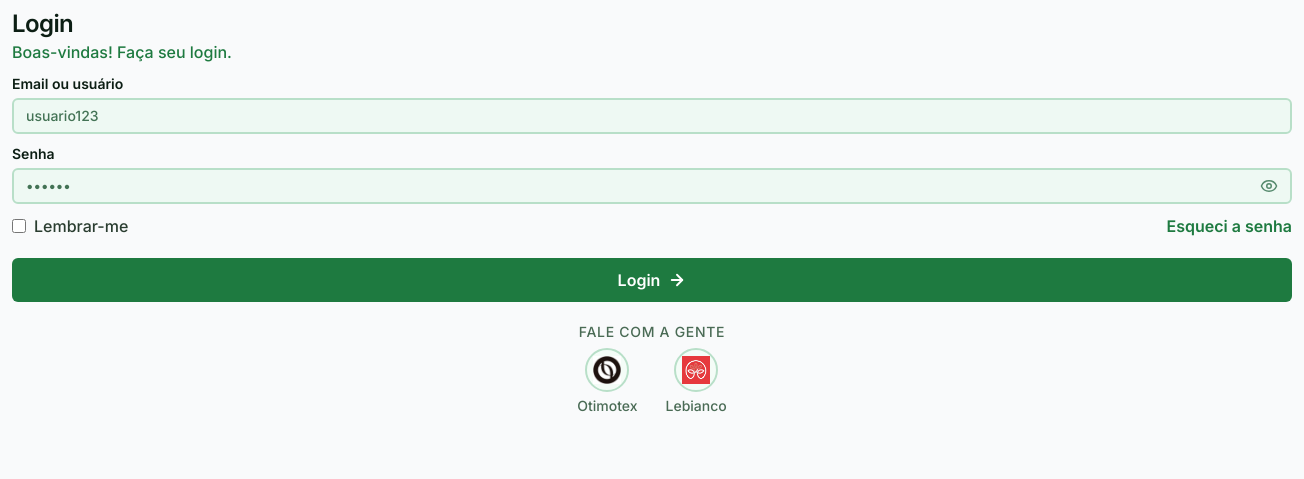
LoginForm › exibe erro inline quando as credenciais são inválidas
This screenshot has width=1304, height=479.
Type "x@y.com" into the field with placeholder "usuario123" at point(652, 116), box [26,106,1278,126]
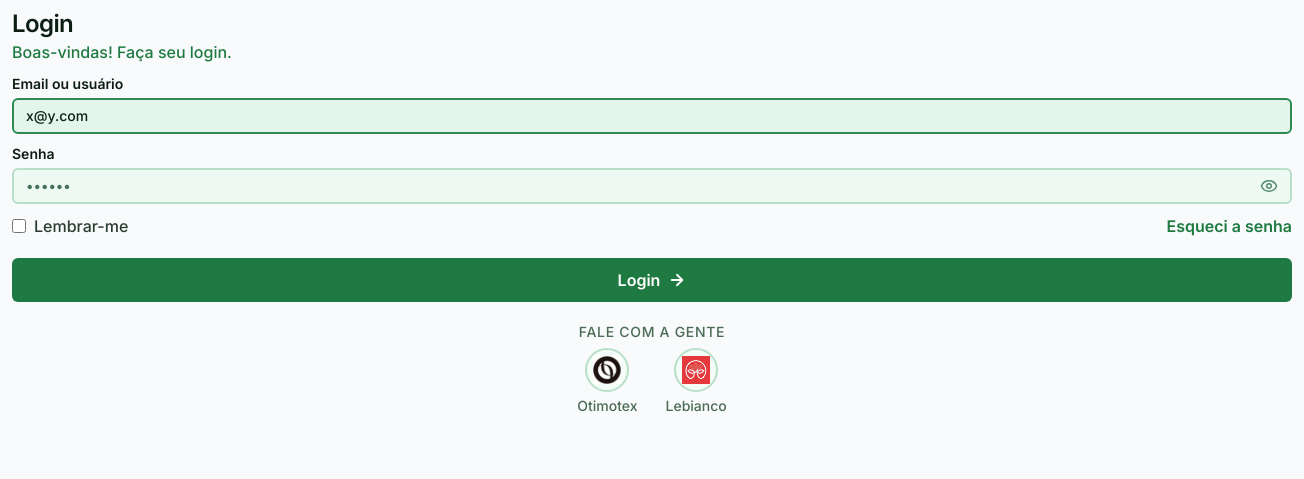
Type "errada" into the password field with placeholder "••••••" at point(639, 186), box [26,176,1252,196]
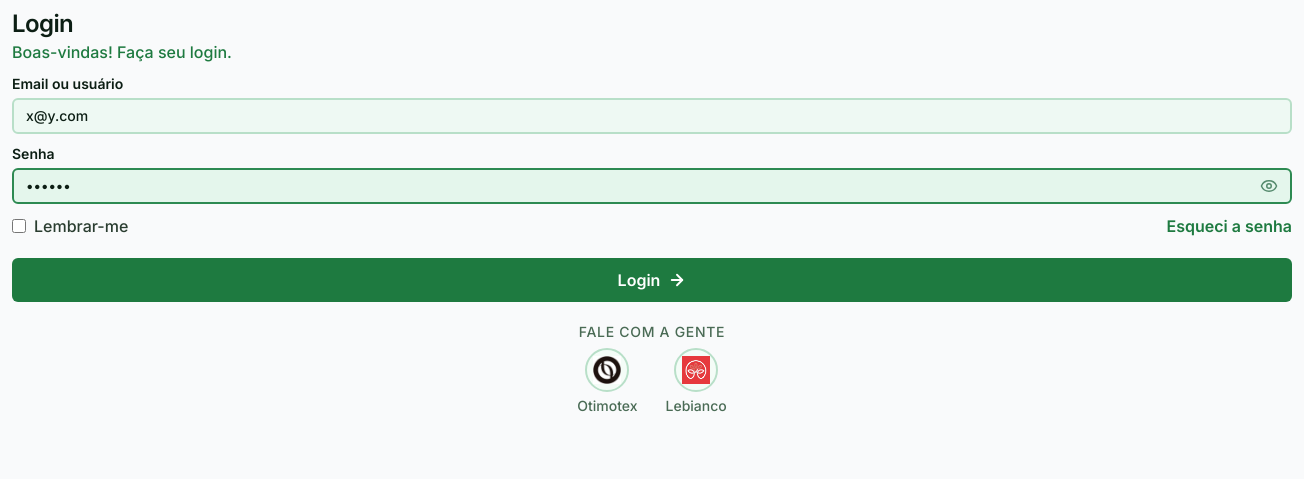
Click the button "Login" at point(652, 280), box [12,258,1292,302]
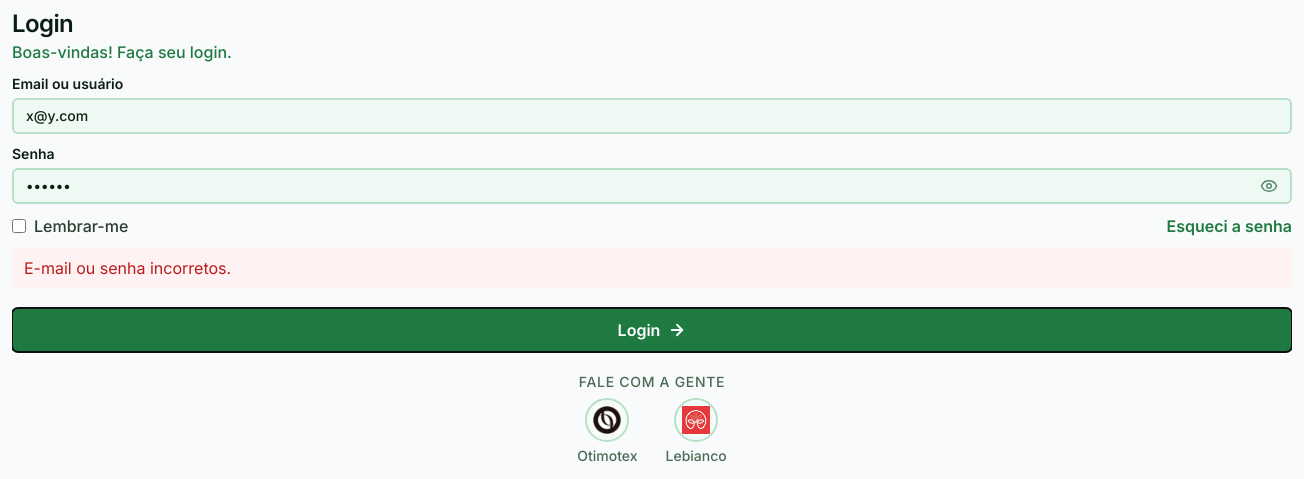
expect the text "E-mail ou senha incorretos." is shown: met, box [12,248,1292,288]
